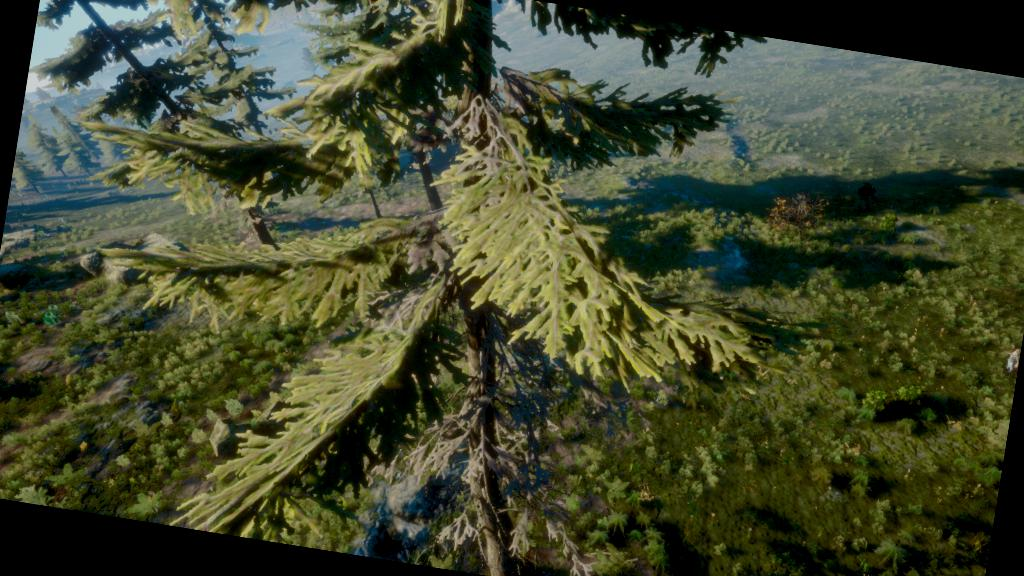human: (1000, 345, 1020, 377)
